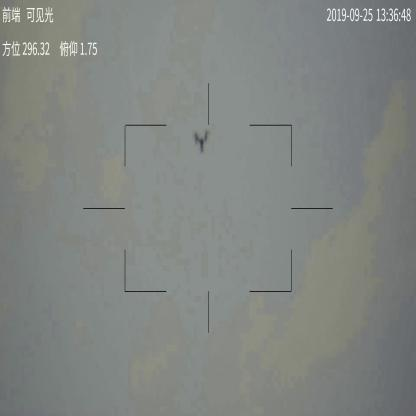uav: (194, 128, 210, 154)
